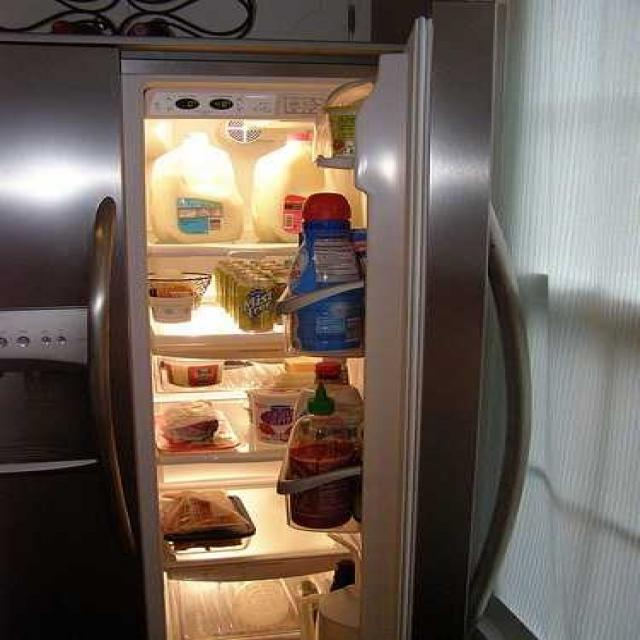refrigerator: (0, 41, 404, 640)
